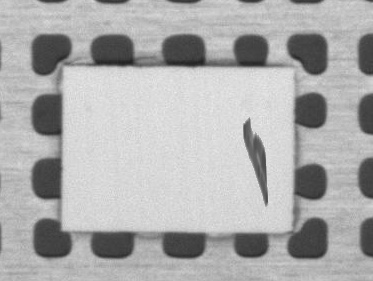DIE_INK: (242, 115, 269, 212)
